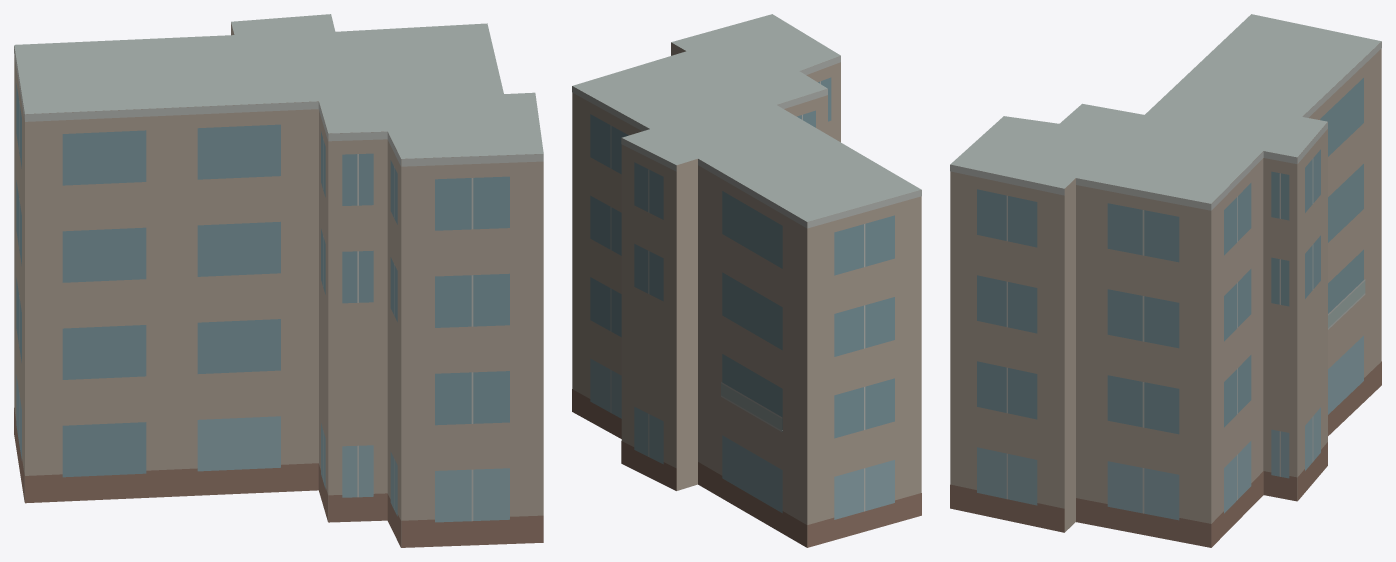
Rendered from survey-upis-33043520.glb.
The picture shows the model from 3 angles, left to right: view 1: azimuth 30°, elevation 25°; view 2: azimuth 150°, elevation 25°; view 3: azimuth 270°, elevation 25°; orthographic projection. The views are drawn at different scales.
Parts seen in each view (by area): view 1: survey-upis-33043520.tmp; view 2: survey-upis-33043520.tmp; view 3: survey-upis-33043520.tmp.
Boxes of the visible parts, x1,y1,x2,y2 form: survey-upis-33043520.tmp: [14, 14, 543, 547]; survey-upis-33043520.tmp: [572, 14, 921, 547]; survey-upis-33043520.tmp: [950, 14, 1381, 547].
Bounding box in the file's own units: 14.45 × 12.2 × 13.88.
